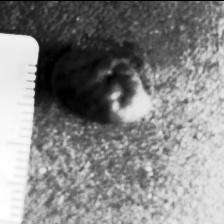Unclassified: (58, 40, 148, 122)
